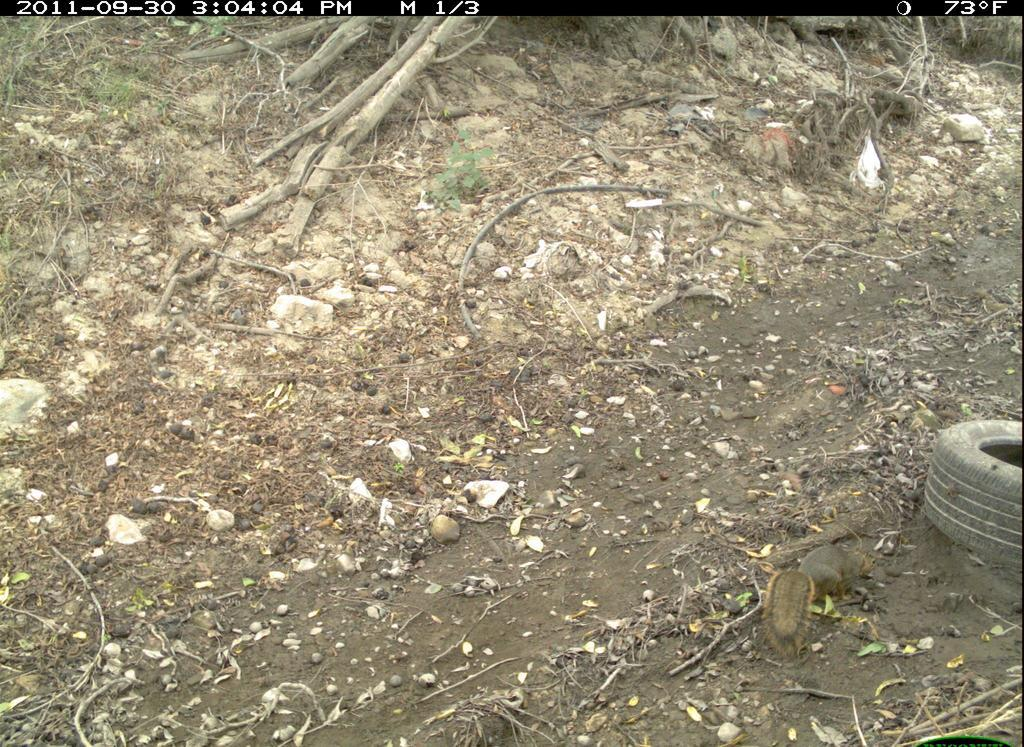squirrel: (757, 533, 876, 653)
